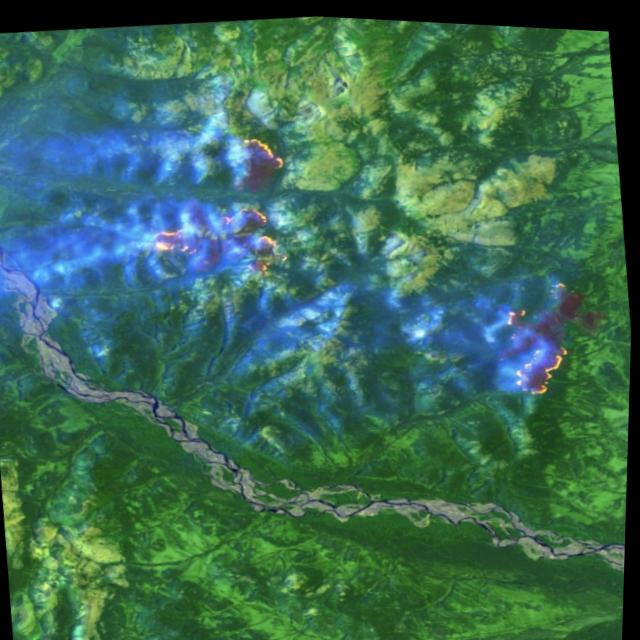fire: (135, 120, 300, 292), (493, 292, 581, 395)
